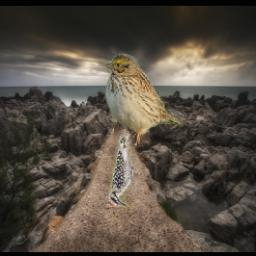Sparrow: (103, 51, 183, 147)
Woodpecker: (109, 116, 134, 207)
